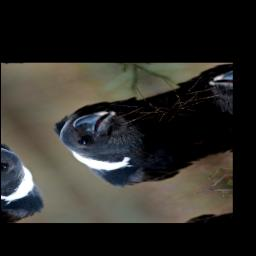Crow: (41, 86, 213, 197)
